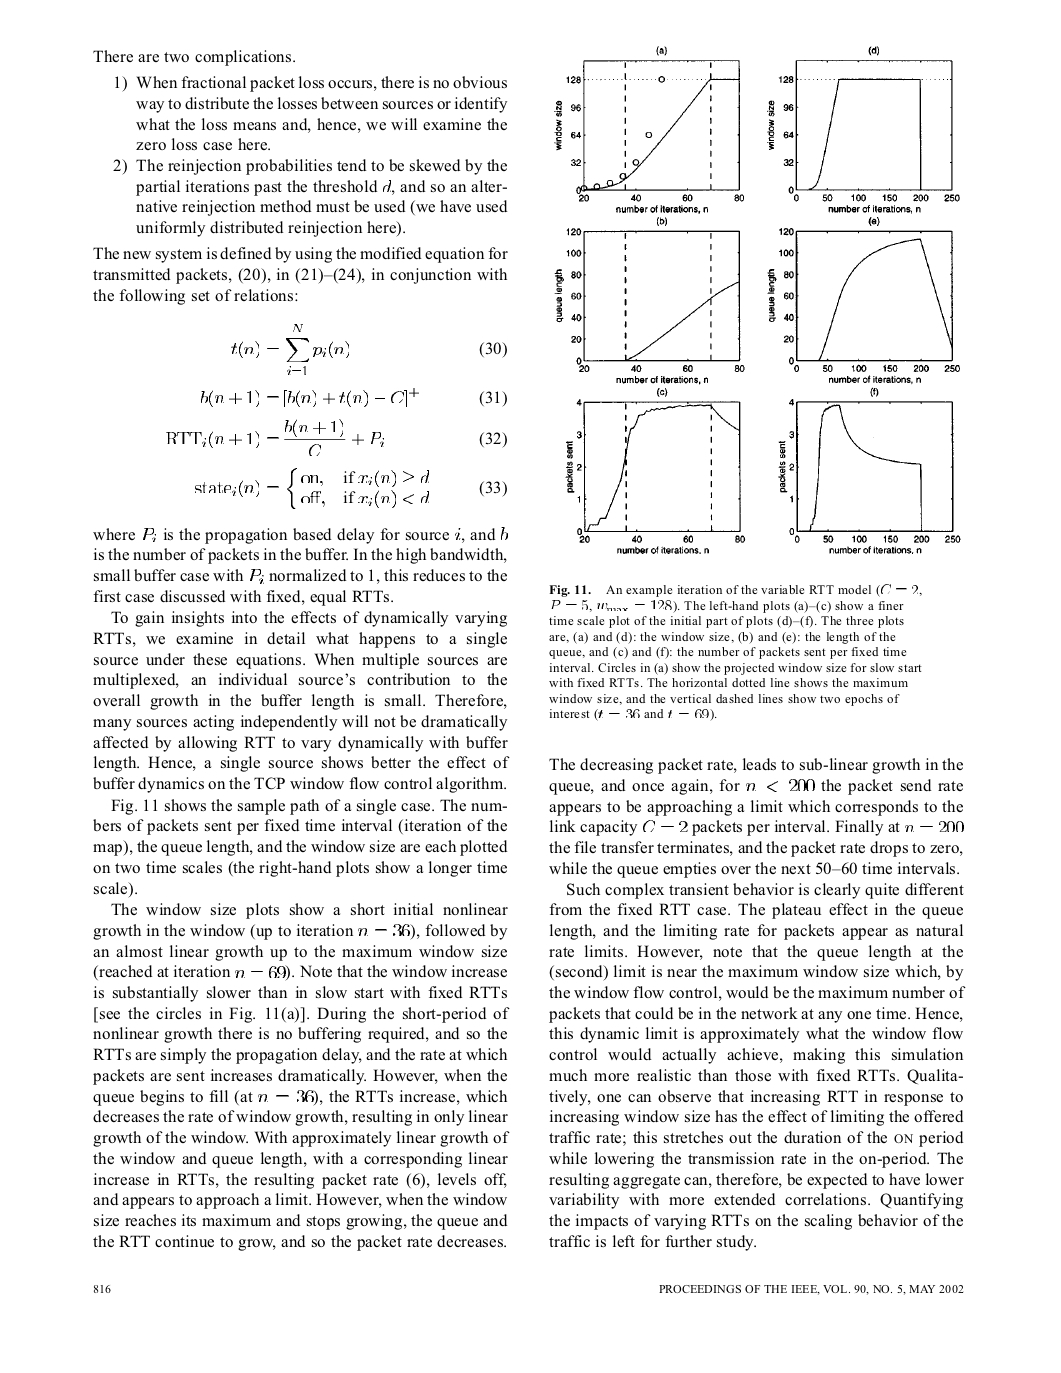figure: (767, 228, 958, 389), (767, 60, 958, 217), (554, 55, 743, 213), (554, 231, 744, 384), (565, 396, 744, 553), (778, 399, 960, 553)
formula: (231, 324, 506, 374), (195, 467, 506, 509), (166, 418, 506, 456), (201, 387, 506, 407)
